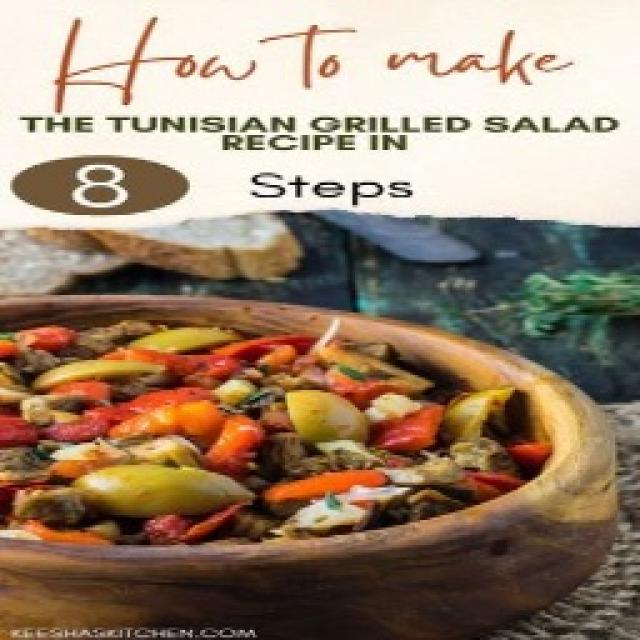Salade mechweya: (0, 320, 552, 544)
